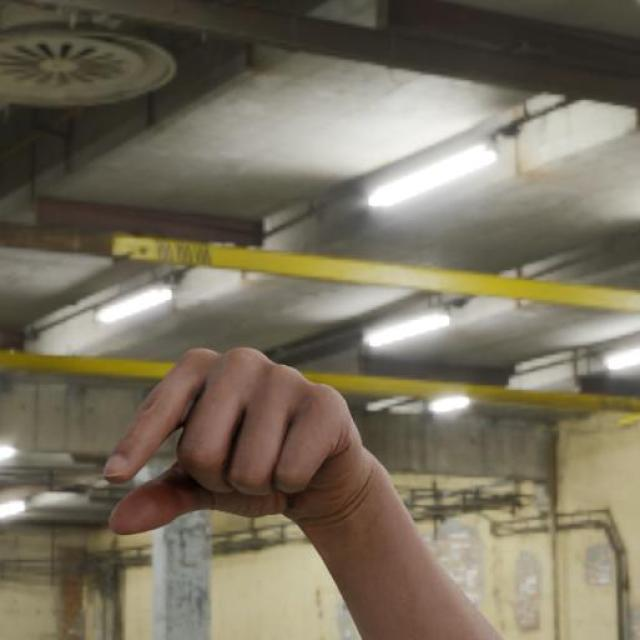Q: (100, 345, 422, 537)
